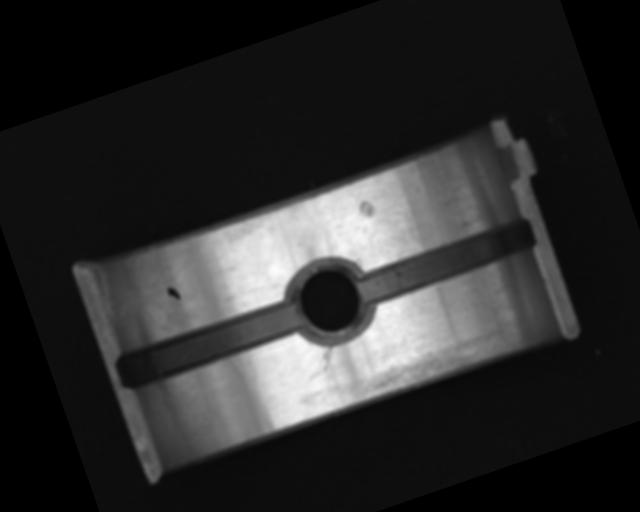blot: (164, 283, 182, 304)
bruise: (355, 197, 379, 220)
gap: (111, 293, 308, 394), (354, 214, 540, 307)
hole: (282, 249, 382, 354)
nick: (317, 343, 340, 372)
scratch: (354, 321, 522, 407)
